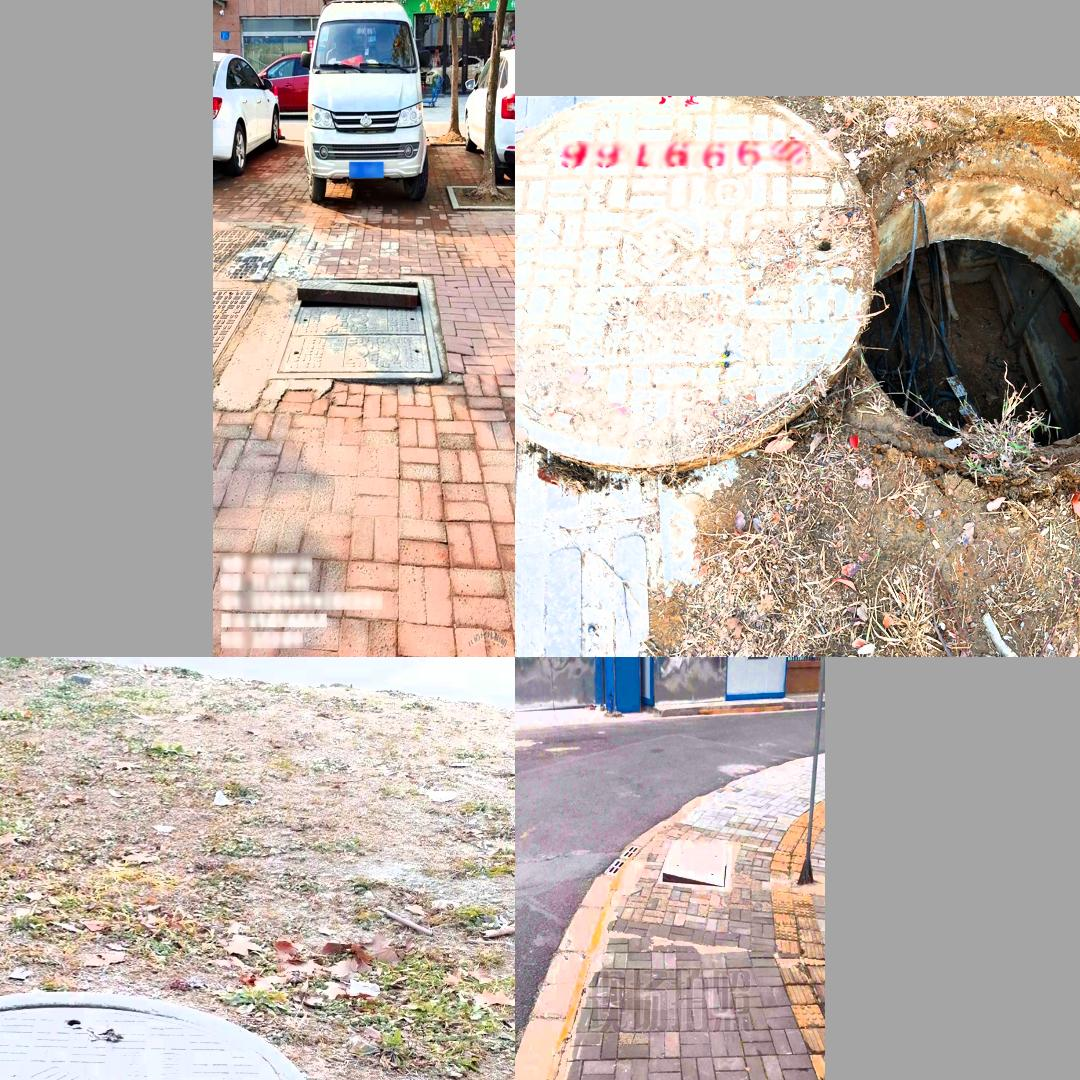uncovered: (517, 108, 1080, 488), (0, 991, 316, 1080), (268, 275, 447, 381), (655, 840, 734, 891)
